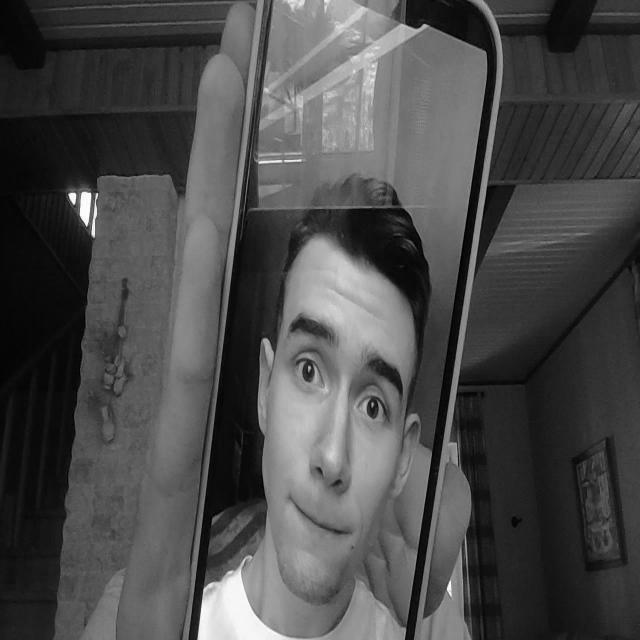fake: (196, 4, 466, 640)
